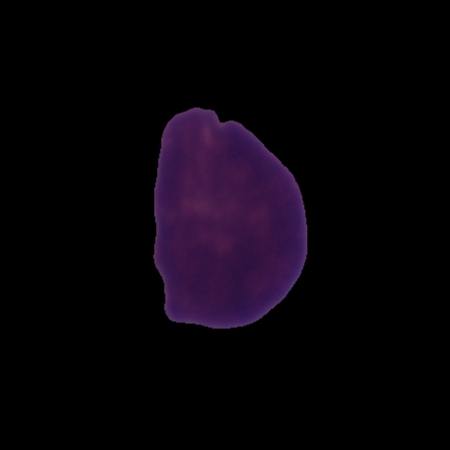ALL: (148, 103, 312, 332)
